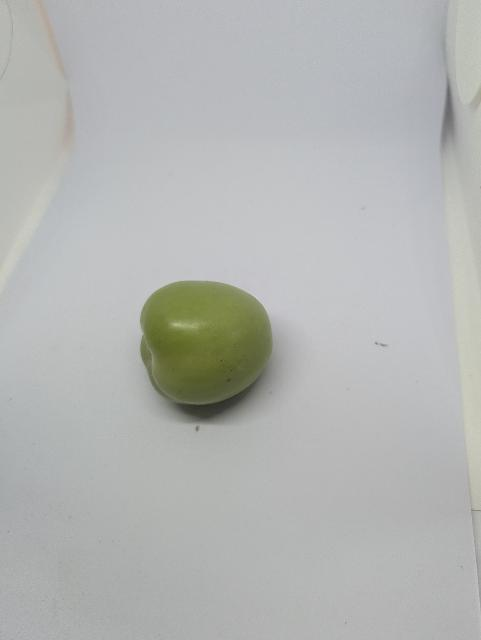green: (117, 268, 278, 414)
